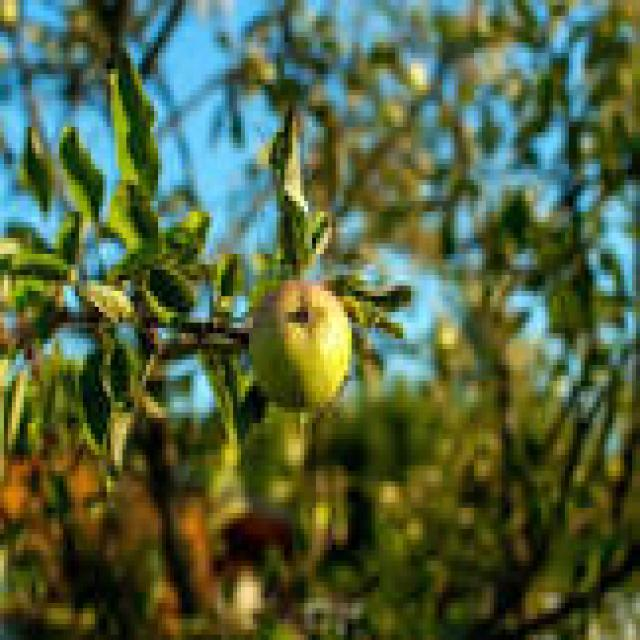apple: (249, 281, 351, 412)
